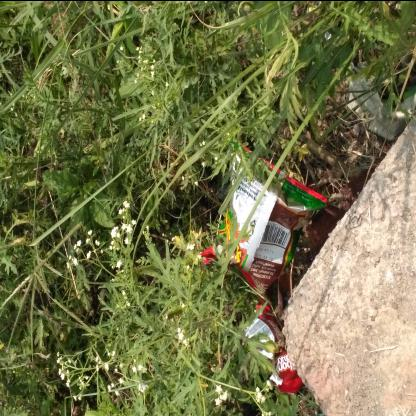plastik: (202, 142, 326, 393)
